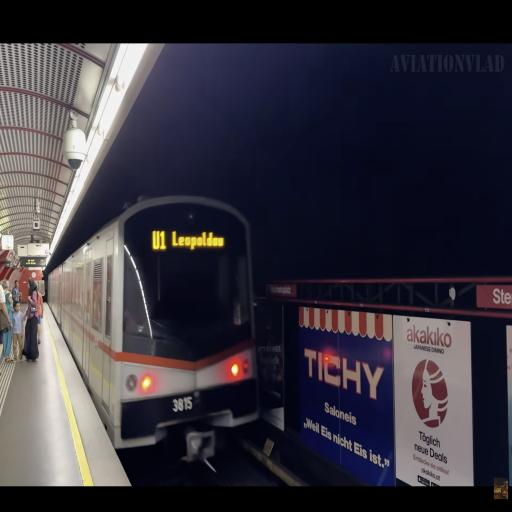V-Wagen: (48, 191, 262, 455)
